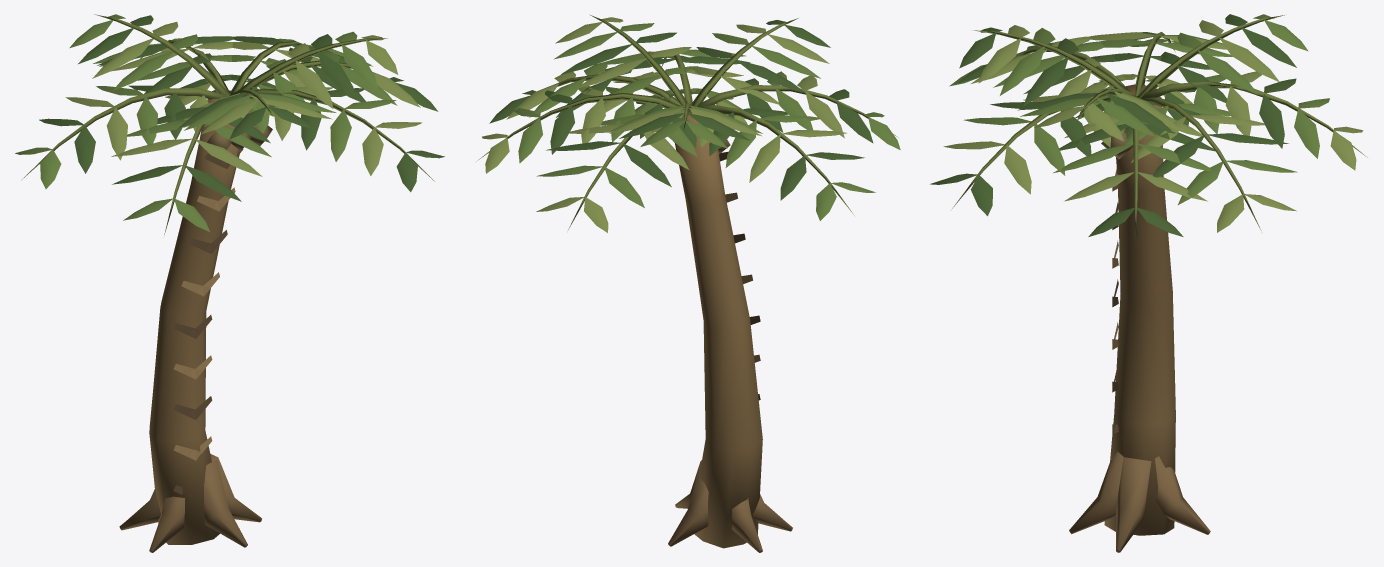
File: woodland_palm_sahrun.glb
3 views of the same model, side by side, from view 1: azimuth 30°, elevation 25°; view 2: azimuth 150°, elevation 25°; view 3: azimuth 270°, elevation 25° (orthographic). The views are drawn at different scales.
Visible parts, largest first — view 1: body; view 2: body; view 3: body.
Boxes of the visible parts, x1=… form: body: x1=15, y1=14, x2=444, y2=552; body: x1=476, y1=14, x2=900, y2=552; body: x1=930, y1=14, x2=1367, y2=552.
Size of the model in its own units: 2.18 by 2.59 by 2.07.
